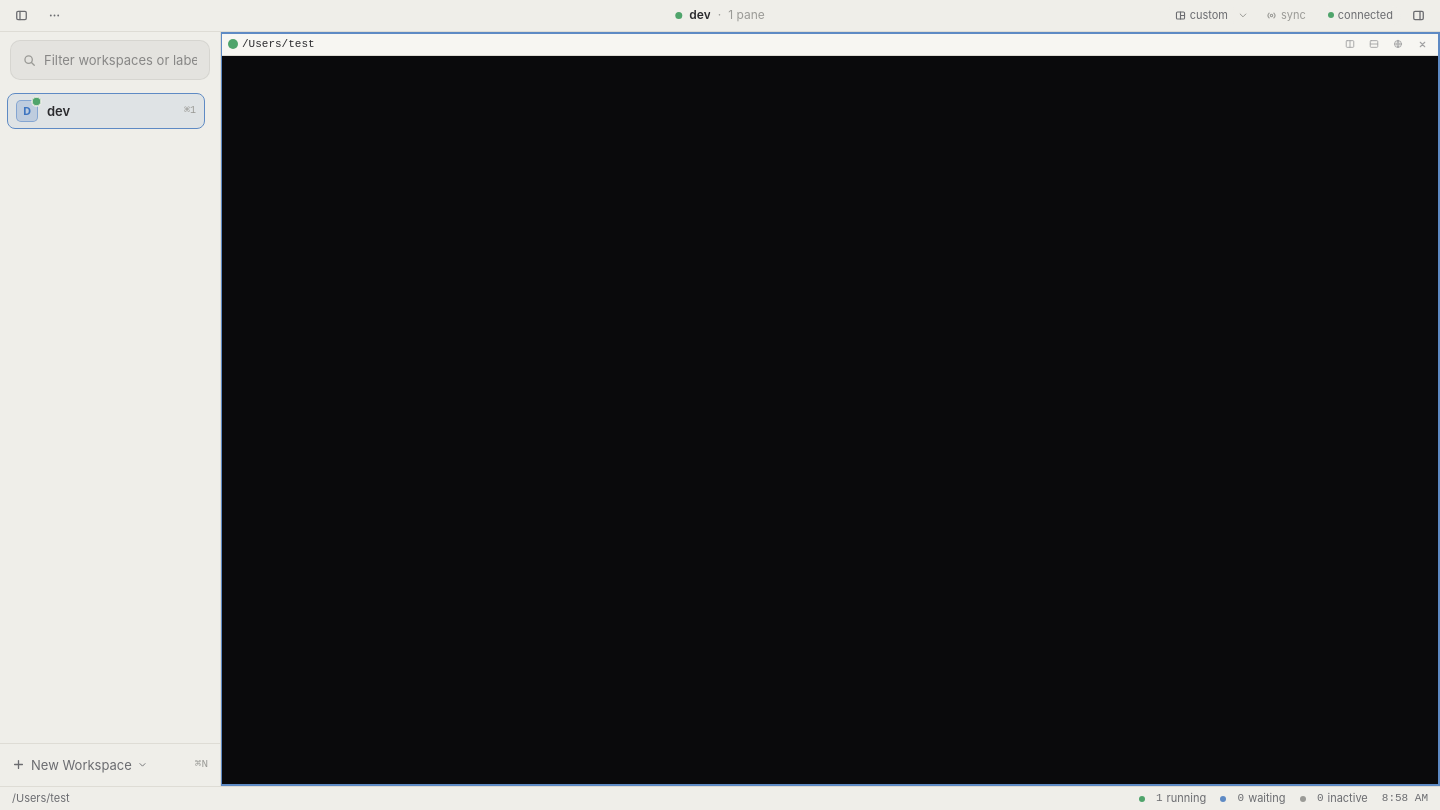
Test: pane context menu (TERM-106…TERM-111) › offers the Status submenu for a shell pane, checkmarking the current value
Right-click the element showing "/Users /test" at (830, 44), box top-left (220, 32), bottom-right (1439, 56)
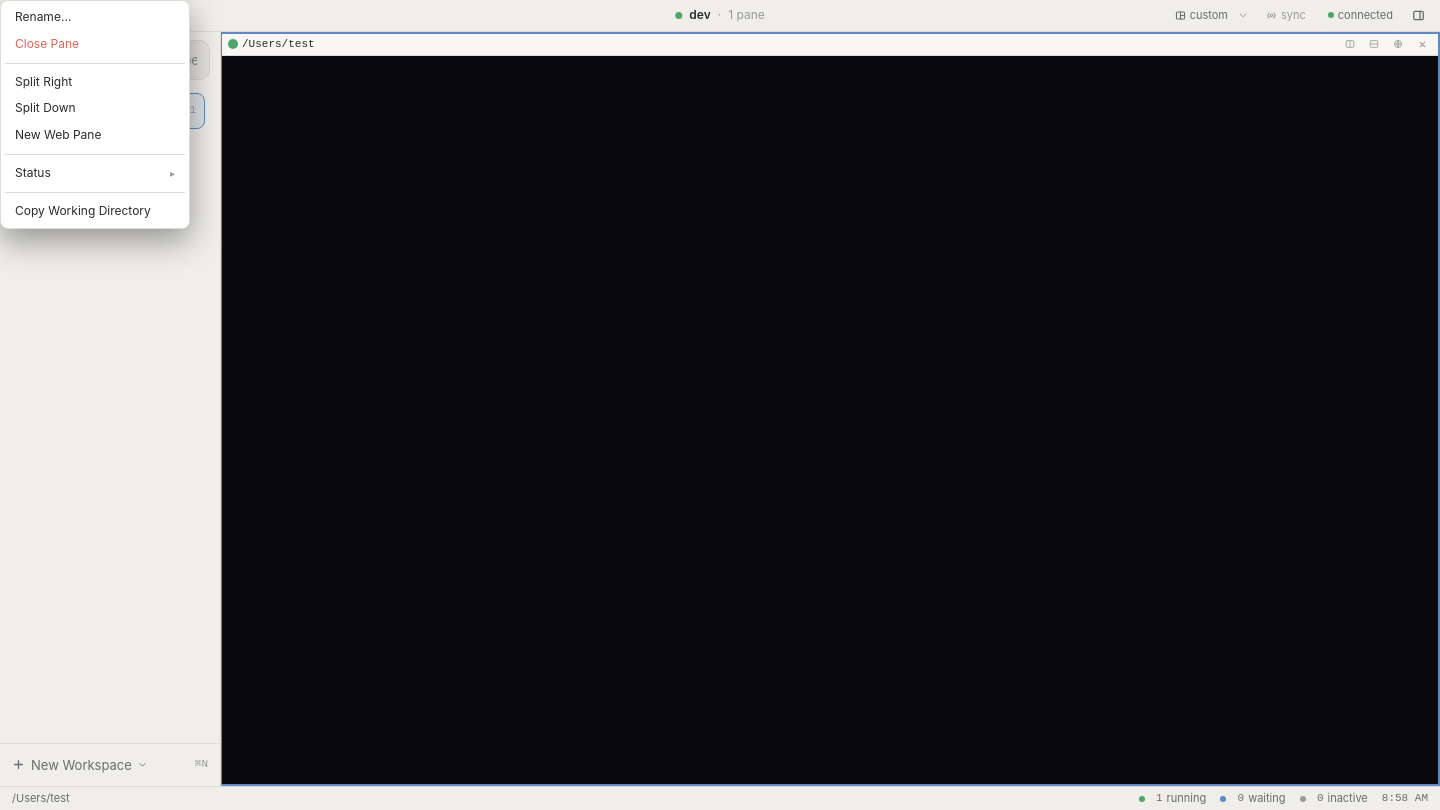
Click the menu item "Status ▸" at (95, 173), box top-left (5, 161), bottom-right (185, 186)
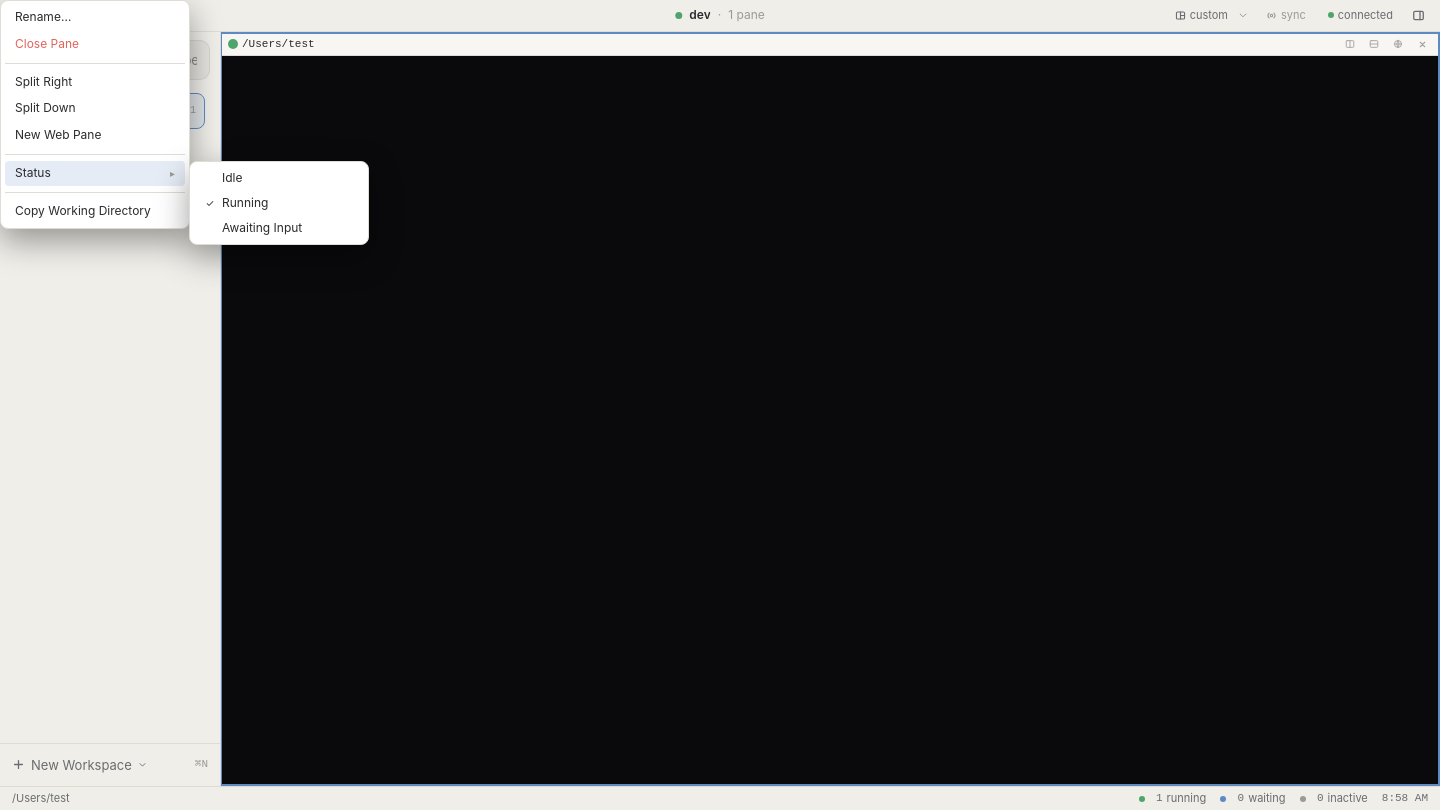
Check: the menu with test id "context-submenu" shows "Awaiting Input", box top-left (194, 216), bottom-right (364, 240)
